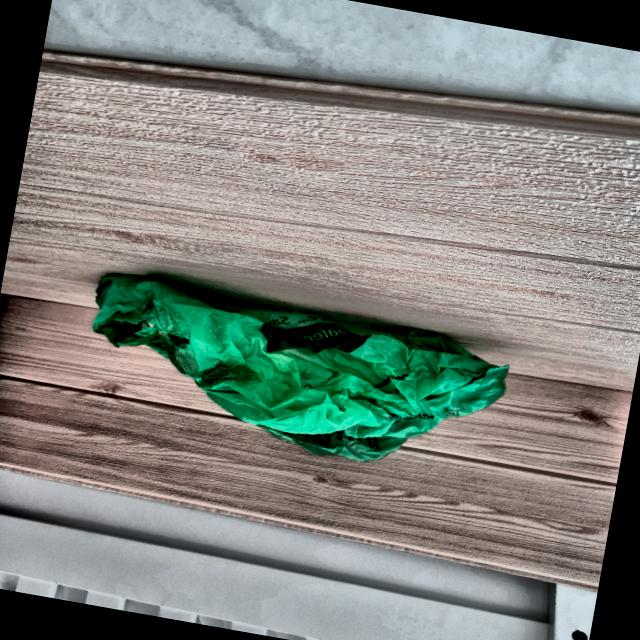plastic bag: (68, 271, 520, 487)
